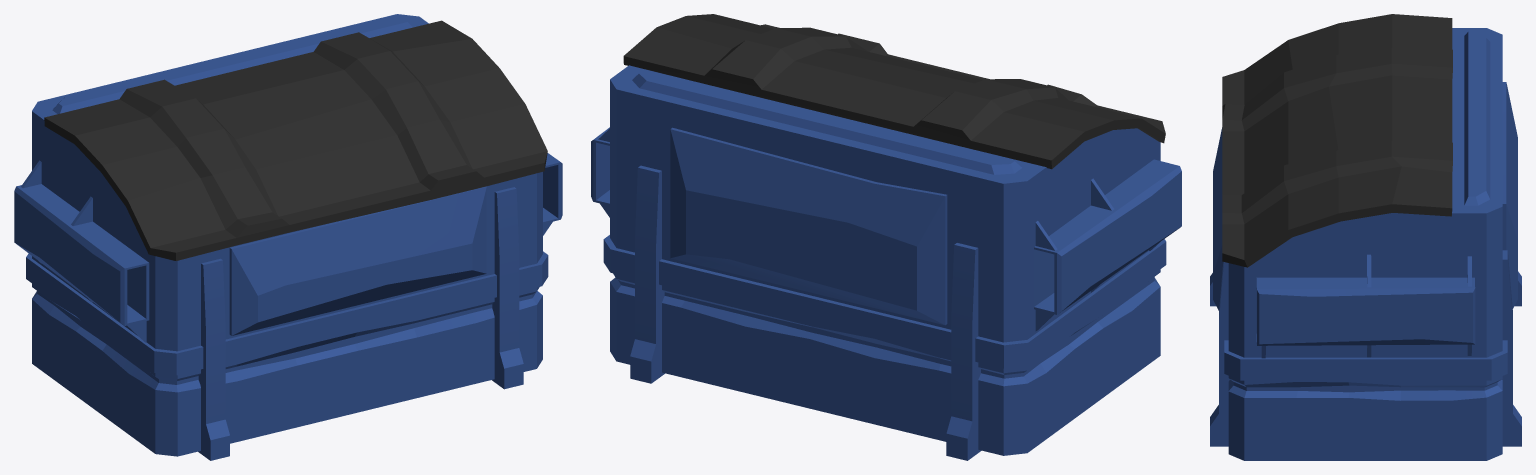
The model's file is Dumpster_01.fbx.
The picture shows the model from 3 angles, left to right: view 1: azimuth 30°, elevation 25°; view 2: azimuth 150°, elevation 25°; view 3: azimuth 270°, elevation 25°; orthographic projection. The views are drawn at different scales.
Visible parts, largest first — view 1: Dumpster_01; view 2: Dumpster_01; view 3: Dumpster_01.
Boxes of the visible parts, x1=… form: Dumpster_01: x1=14, y1=14, x2=562, y2=460; Dumpster_01: x1=591, y1=14, x2=1181, y2=460; Dumpster_01: x1=1210, y1=14, x2=1521, y2=460.
Size of the model in its own units: 248 by 148 by 155.
